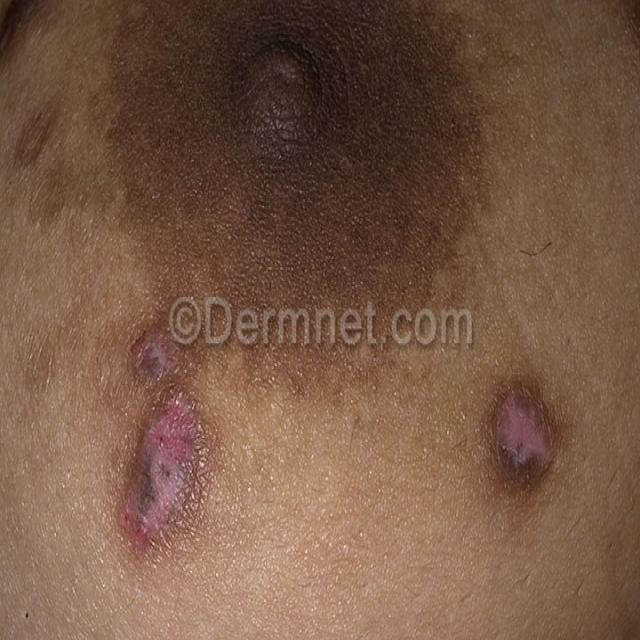Eczema: (101, 316, 233, 565), (468, 372, 576, 506)
